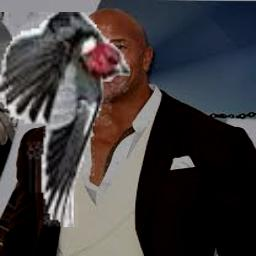Woodpecker: (0, 12, 130, 227)
